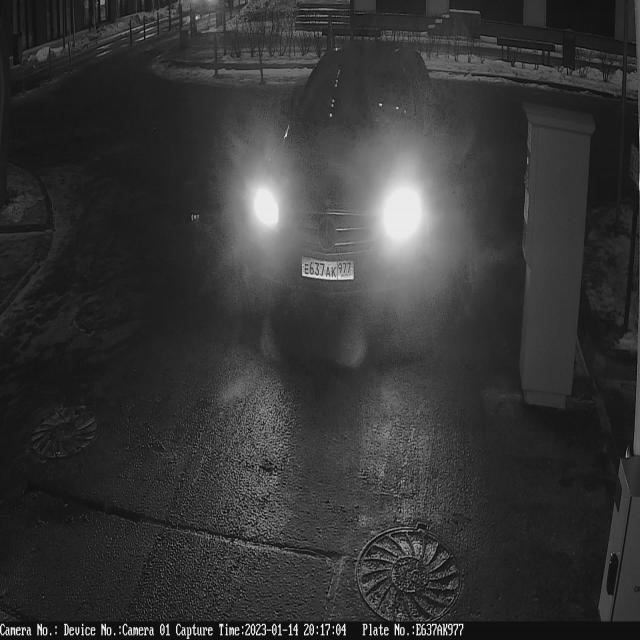car-plate-numbers: (301, 250, 360, 286)
